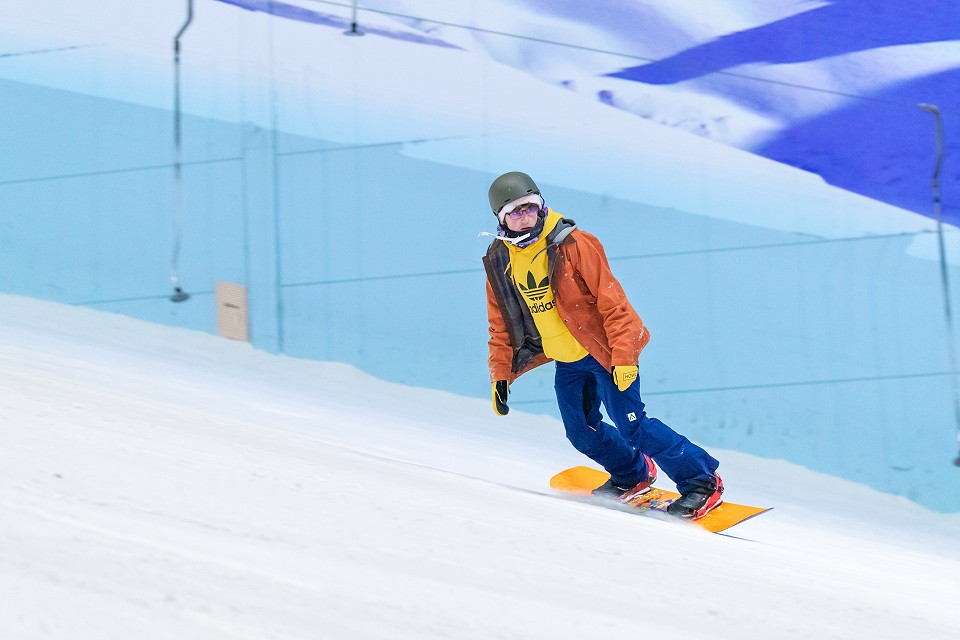snowboarder: (473, 165, 779, 545)
